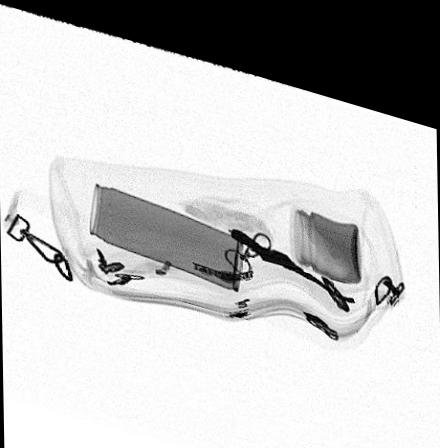Gun: (227, 215, 358, 286)
